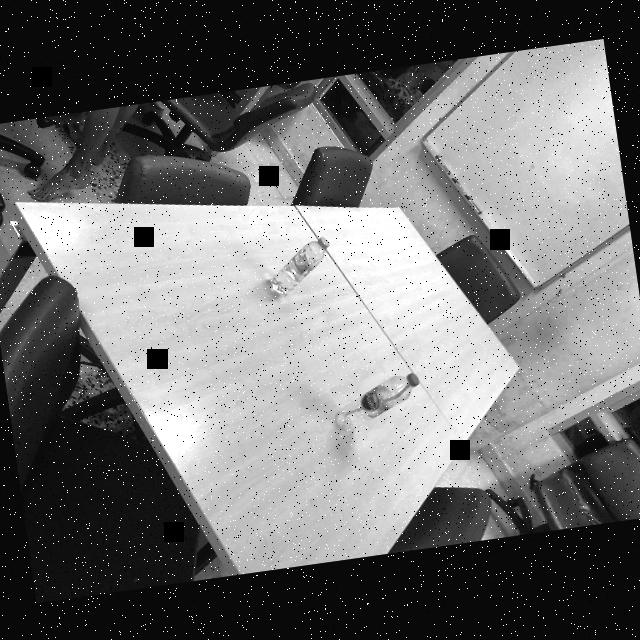plastic_bottle: (329, 370, 425, 434), (262, 234, 338, 296)
plastic_bottle_cap: (405, 371, 421, 386), (316, 235, 330, 249)
straw: (340, 380, 414, 420)
